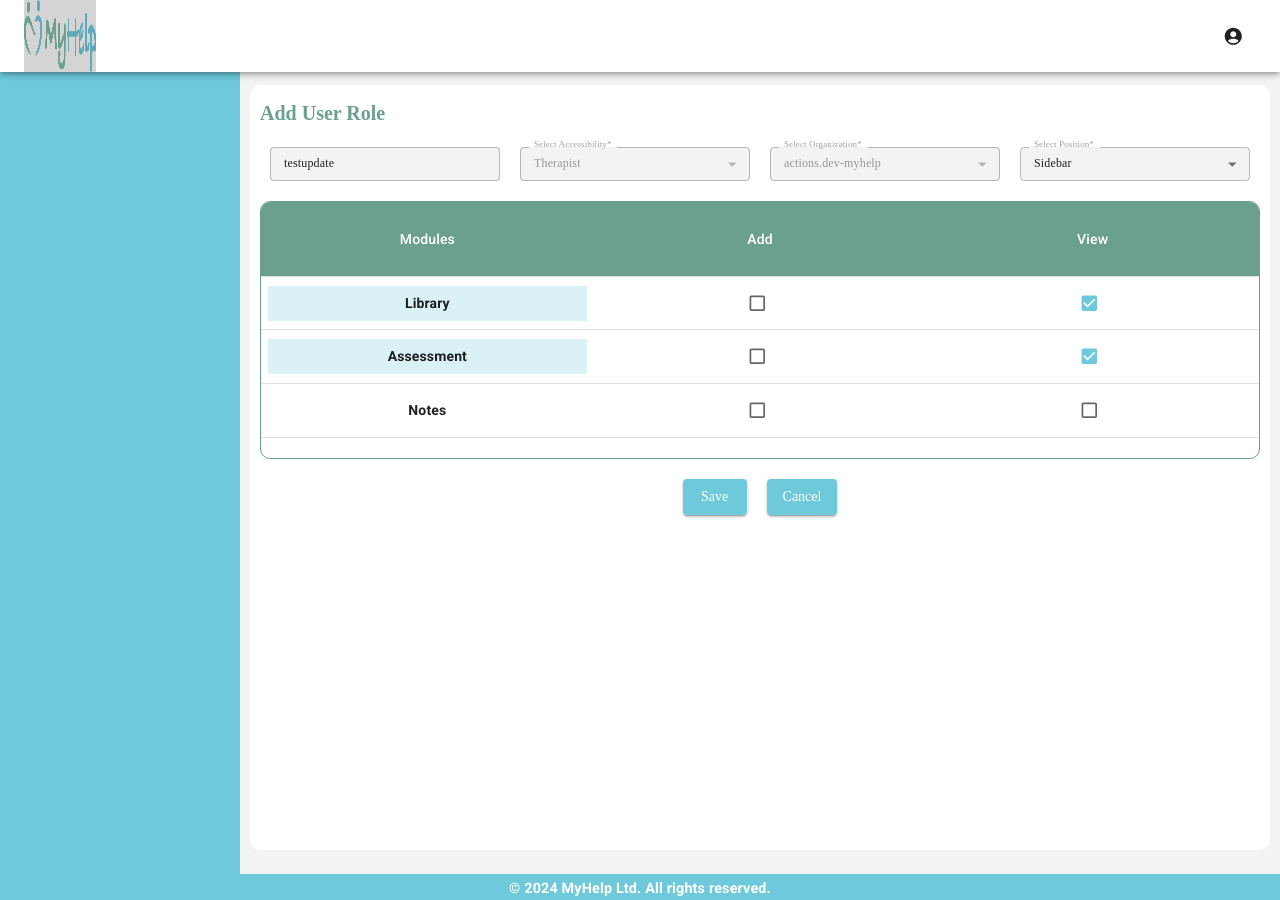
Admin update user role › should render admin module and update user role
The width and height of the screenshot is (1280, 900).
Click the button with test id "submitForm" at (715, 497), box [683, 479, 747, 515]
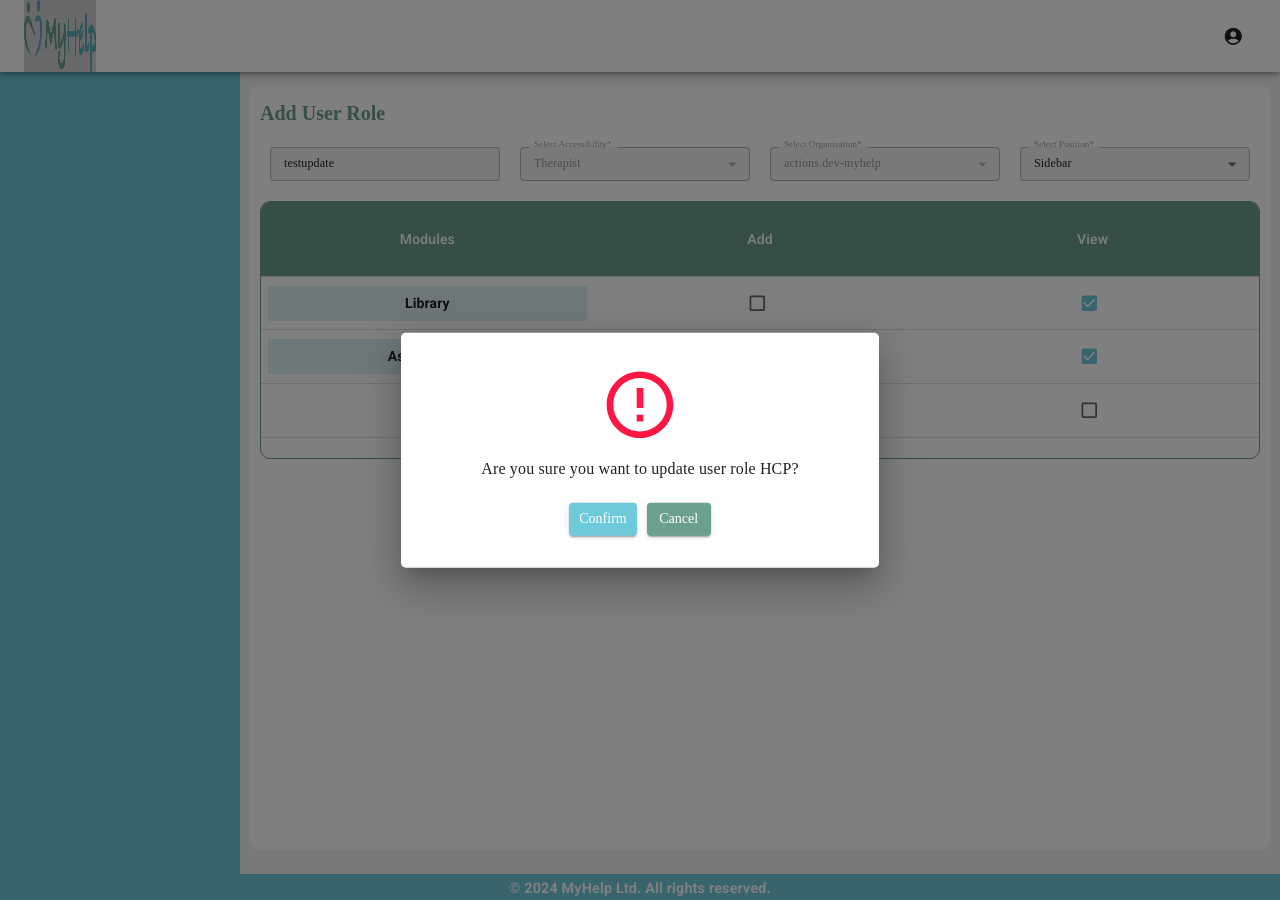
Click the button with test id "confirmButton" at (603, 519), box [569, 503, 637, 535]
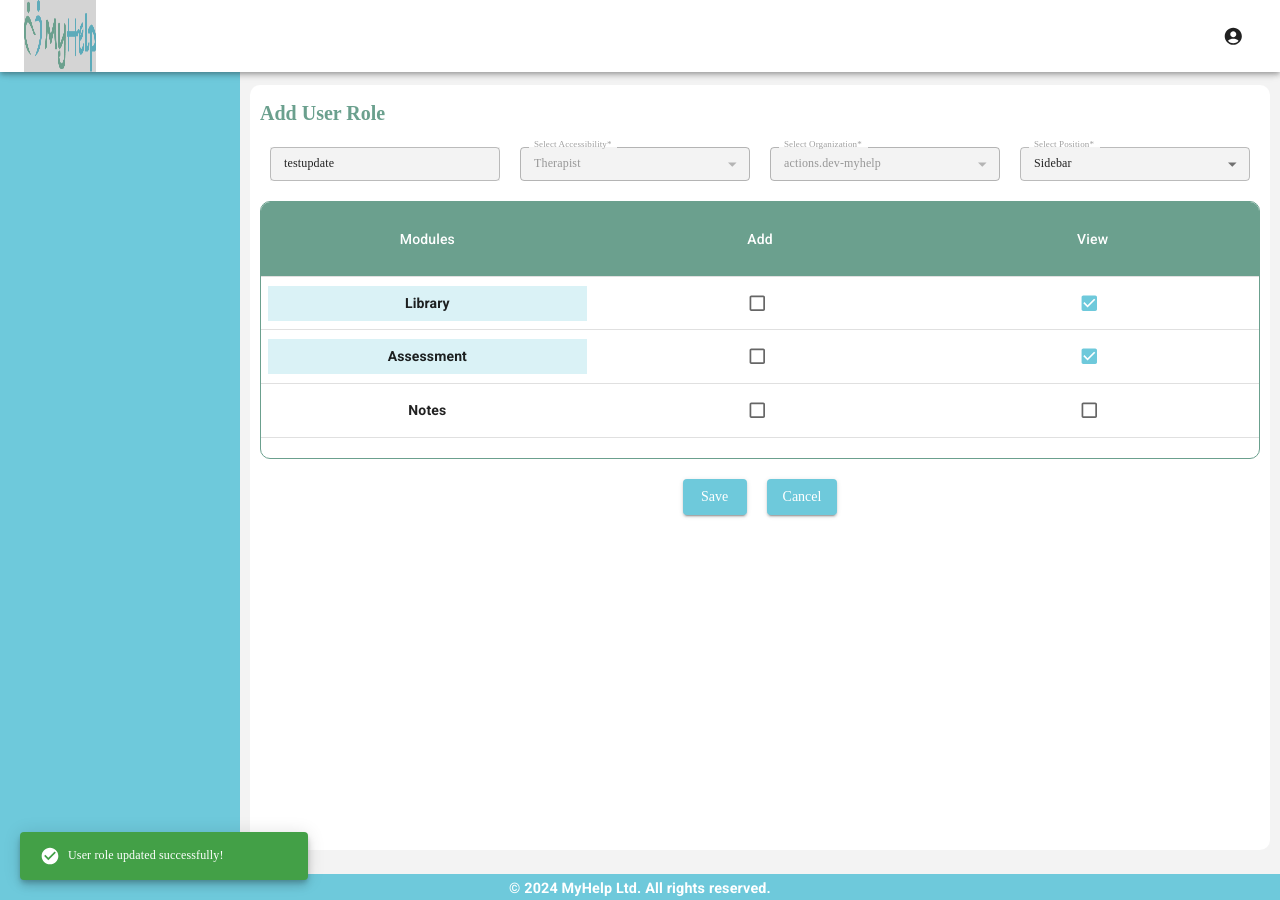
Expected: the text "User role updated successfully!" is shown, [40, 846, 224, 866]
